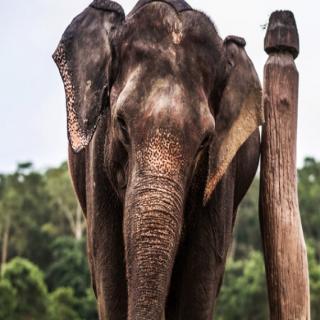Elephant: (49, 0, 286, 320)
